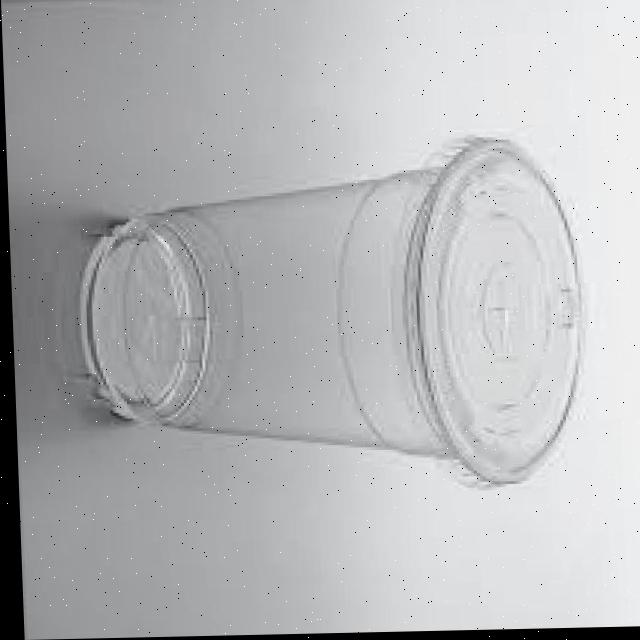cup: (58, 132, 604, 509)
